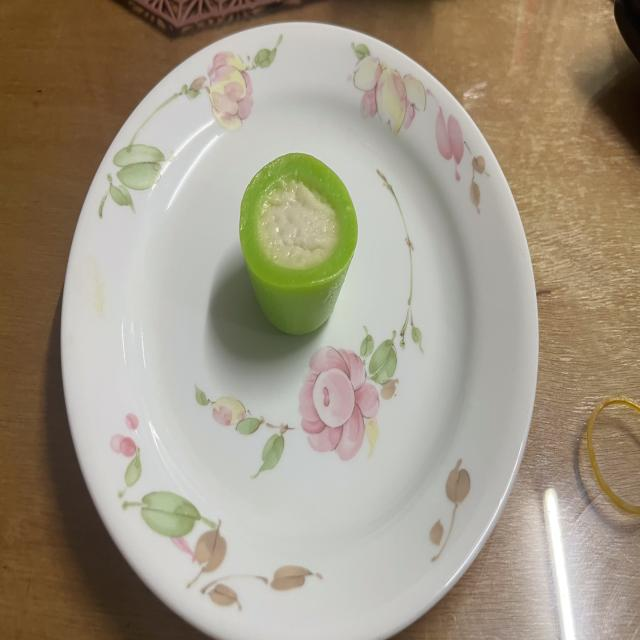nona-manis: (240, 153, 358, 333)
